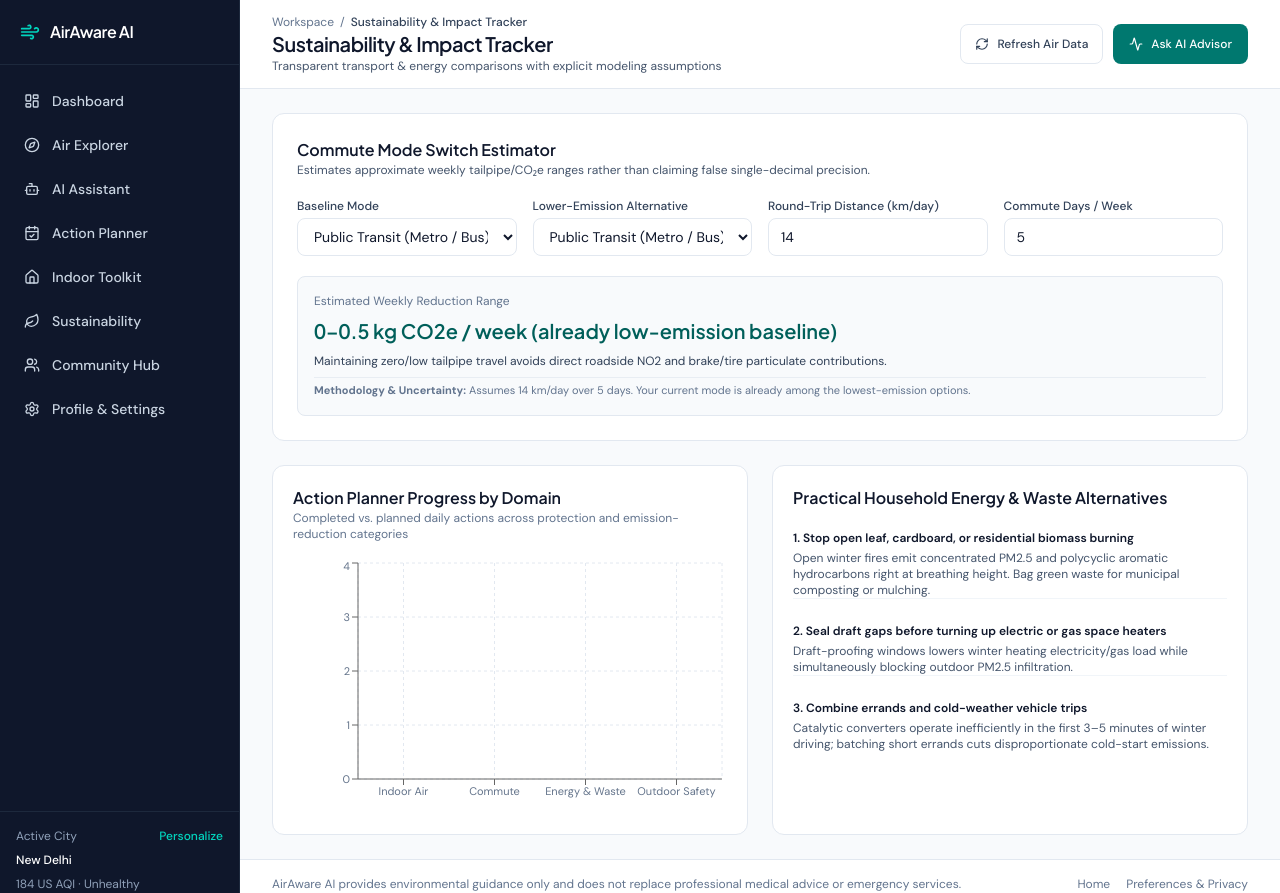
Test case: Core Workspace Pages Coverage › updates SustainabilityPage commute estimator ranges and renders CommunityPage tips
Later steps or results of the test are not shown.
Expected: the button "Refresh Air Data" is enabled, [960, 24, 1103, 64]
Select "Solo Petrol/Diesel Car" in the dropdown labelled "Baseline Mode" at (407, 237), box [297, 218, 516, 256]
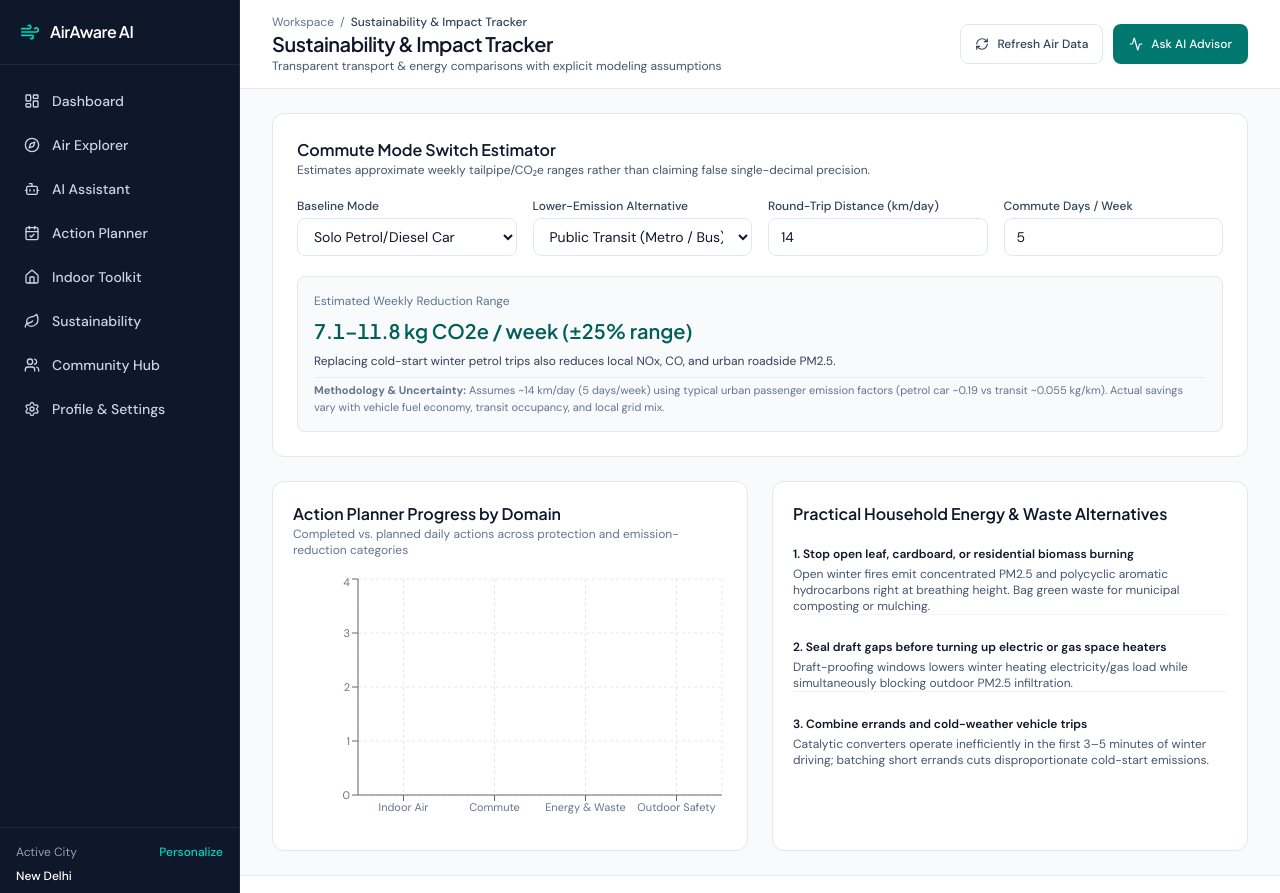
Select "Walking" in the dropdown labelled "Lower-Emission Alternative" at (642, 237), box [532, 218, 752, 256]
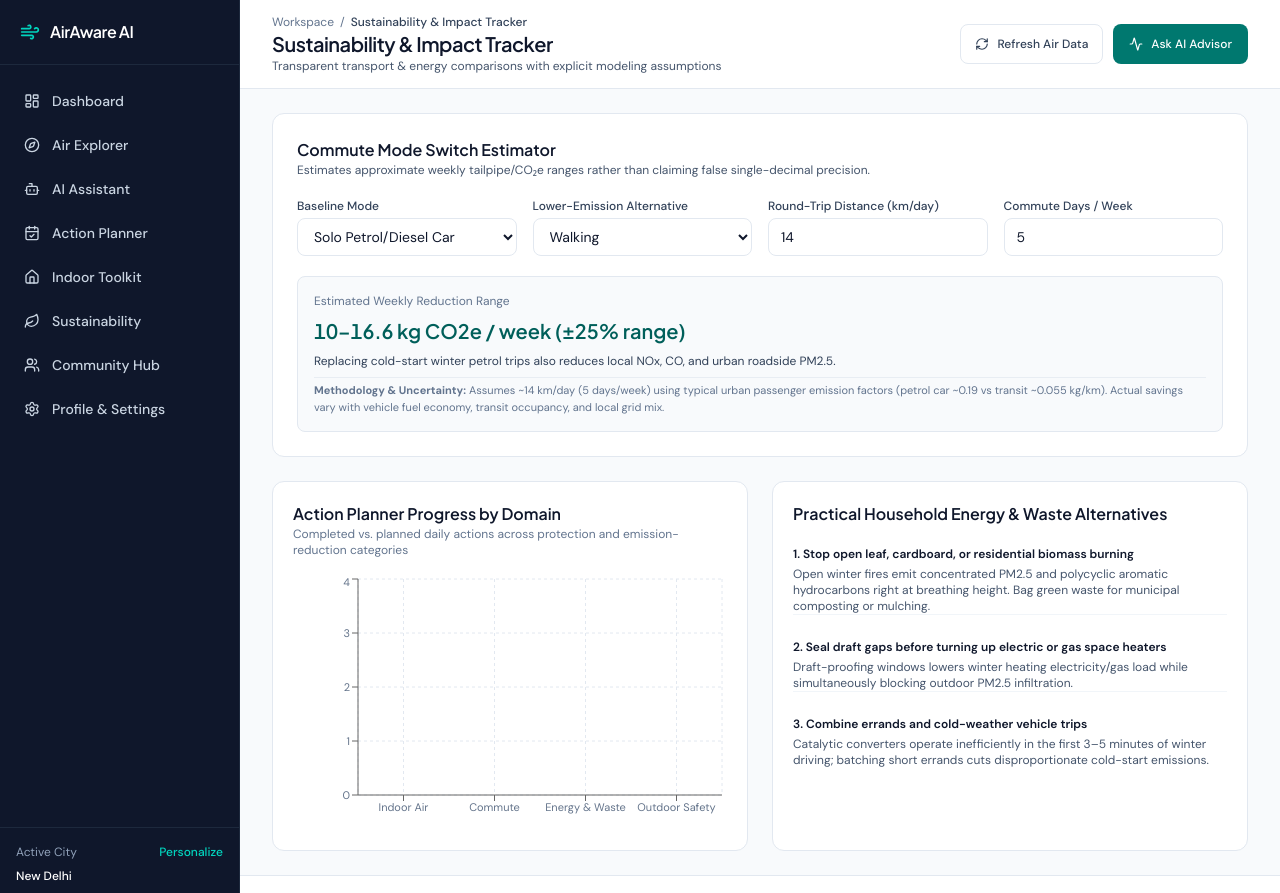
Result: the text "10–16.6 kg CO2e / week (±25% range)" is shown at [314, 318, 686, 343]
